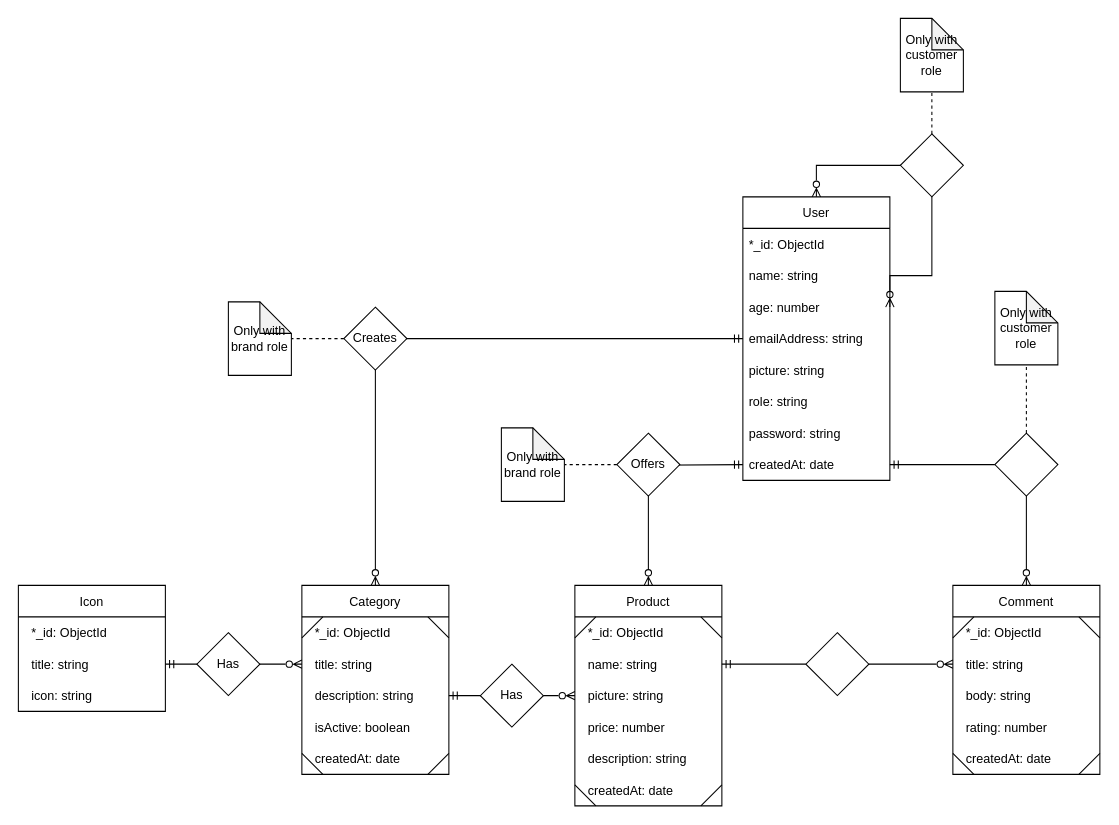
Some shapes in this 1119 by 825 pixel diagram are drawn without their labels. The centre of each missing label's shape, as x and y in pixels:
Belongs to: the point at 837,664
Follows: the point at 931,165
Places: the point at 1026,464
